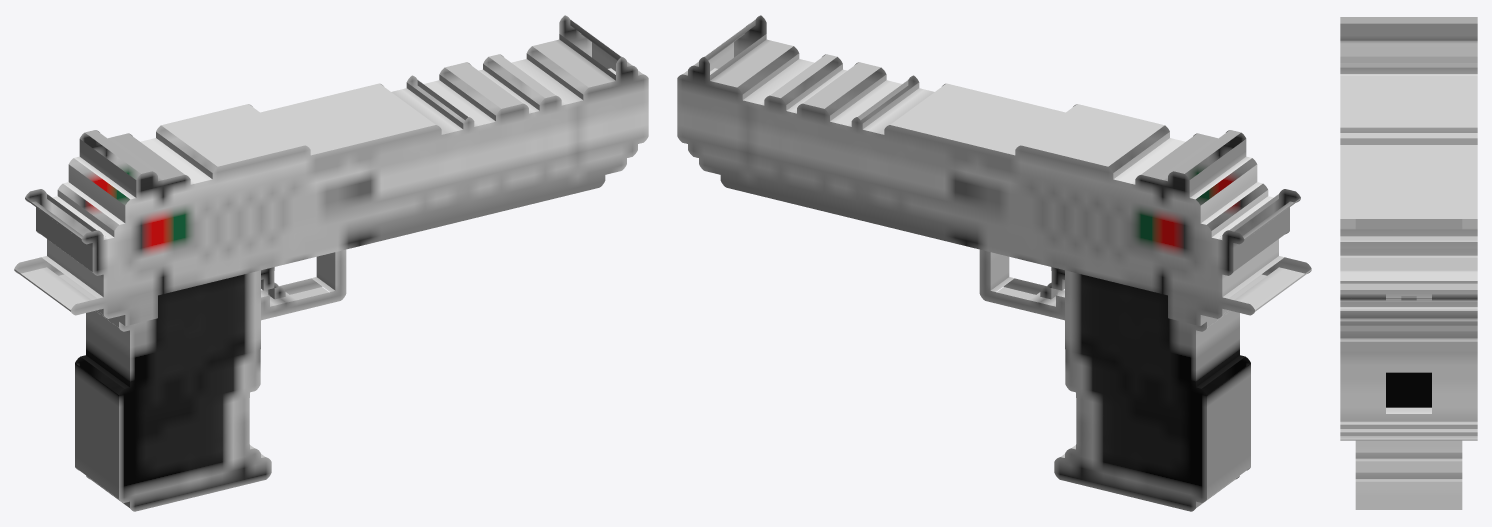
Rendered from sung_2.fbx.
3 views of the same model, side by side, from view 1: azimuth 30°, elevation 25°; view 2: azimuth 150°, elevation 25°; view 3: azimuth 270°, elevation 25° (orthographic). The views are drawn at different scales.
Visible parts, largest first — view 1: defaut gun; view 2: defaut gun; view 3: defaut gun.
Part boxes in pixels (x1,y1,x2,y2): defaut gun: (14, 15, 648, 511); defaut gun: (677, 15, 1311, 511); defaut gun: (1340, 17, 1477, 509).
Size of the model in its own units: 530 by 300 by 90.
